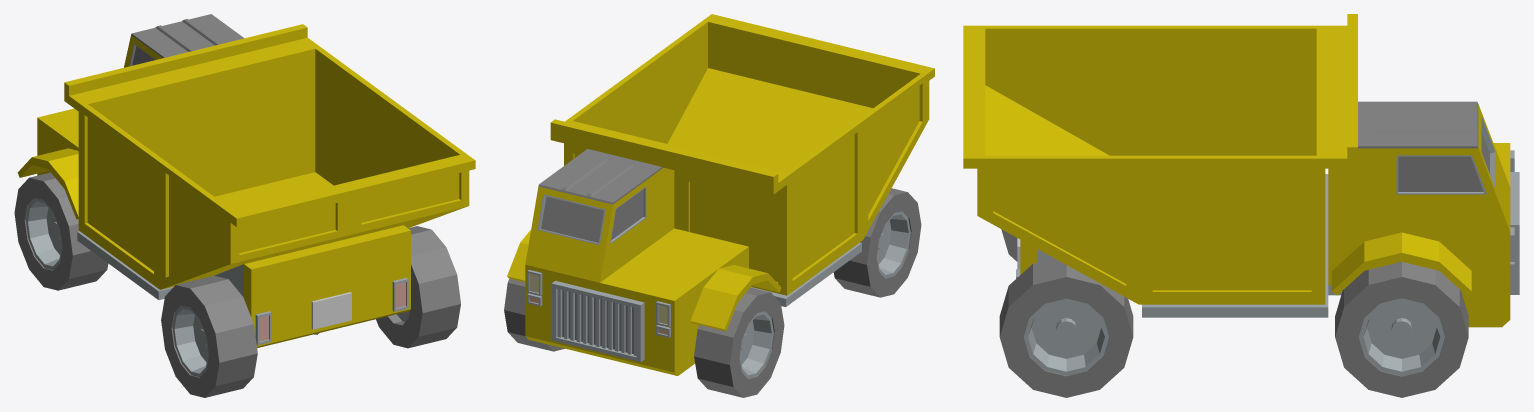
Rendered from dump.glb.
3 views of the same model, side by side, from view 1: azimuth 30°, elevation 25°; view 2: azimuth 150°, elevation 25°; view 3: azimuth 270°, elevation 25° (orthographic). The views are drawn at different scales.
Parts seen in each view (by area): view 1: dump; view 2: dump; view 3: dump.
Boxes of the visible parts, x1,y1,x2,y2 form: dump: [14, 14, 475, 397]; dump: [504, 14, 934, 397]; dump: [963, 14, 1519, 397].
Bounding box in the file's own units: 6.02 × 5.2 × 10.48.
